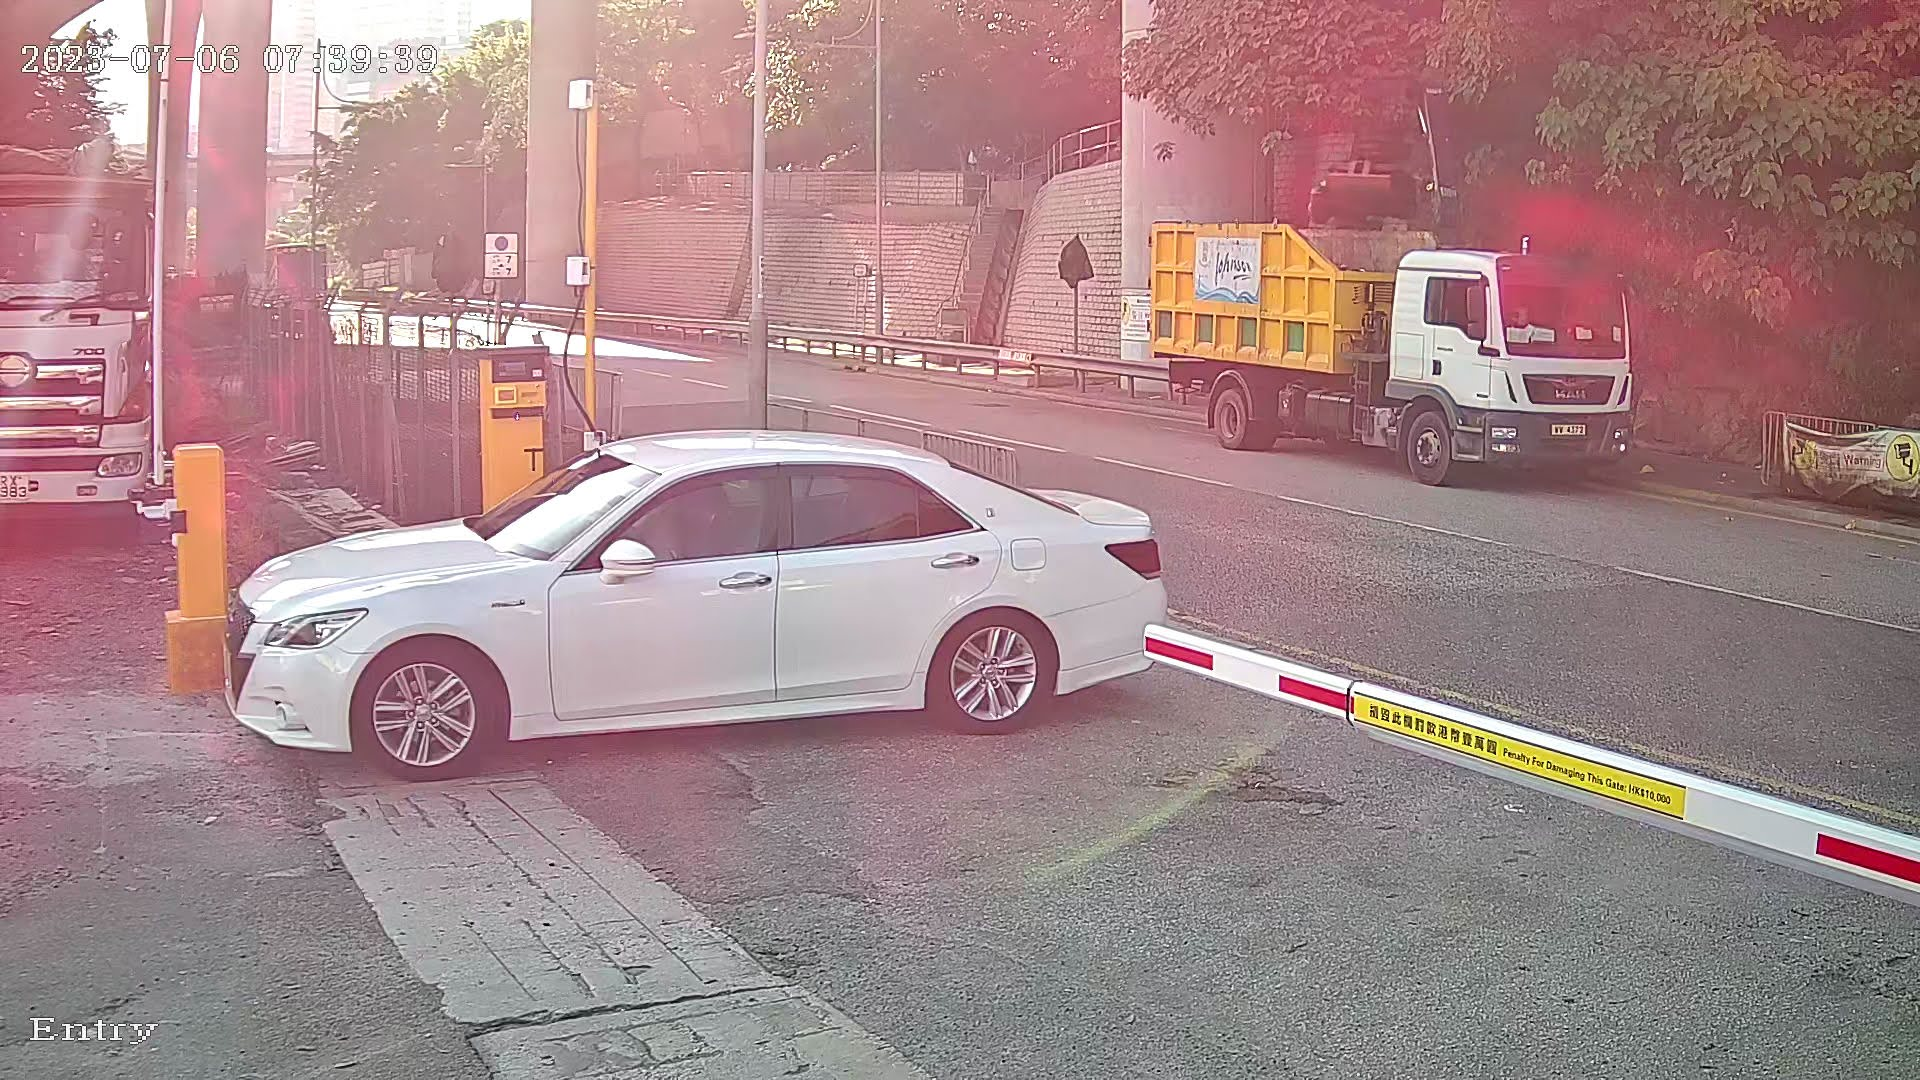privatecar: (158, 385, 1234, 837)
